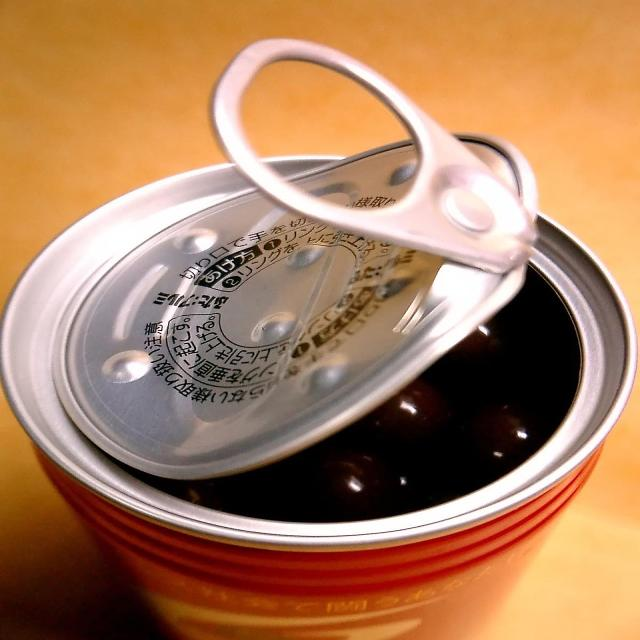can: (6, 48, 640, 617)
